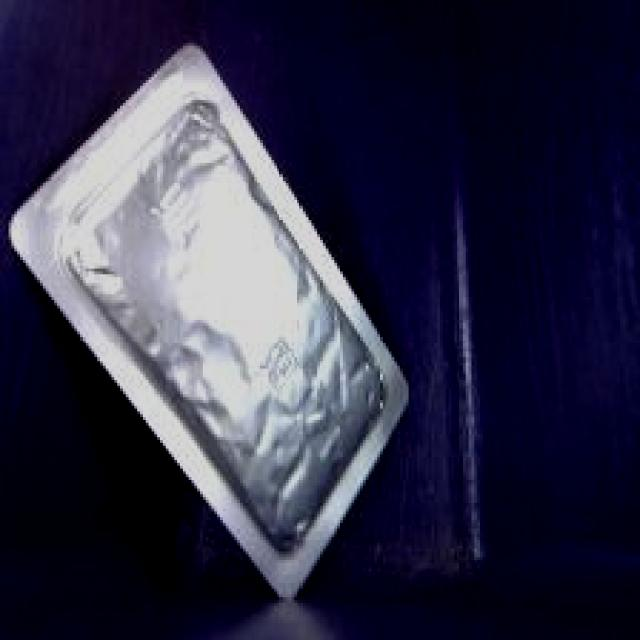med_plate: (8, 32, 428, 610)
